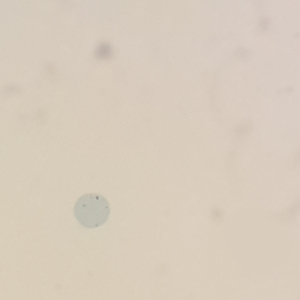punctate reticulocyte: (71, 191, 112, 230)
